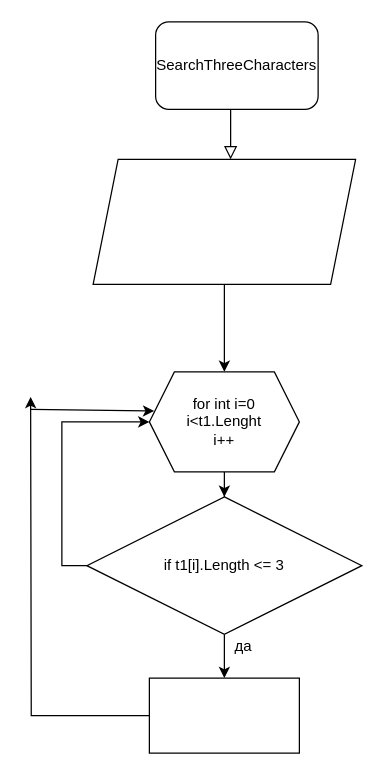
The diagram is 384 pixels wide and 775 high, and some of its shapes have lost their labels. Each missing label, with the centre of its shape:
string [] t1 string [] t2 int count = 0: point 224,221
t2[count] = t1[i]; count++: point 223,715
